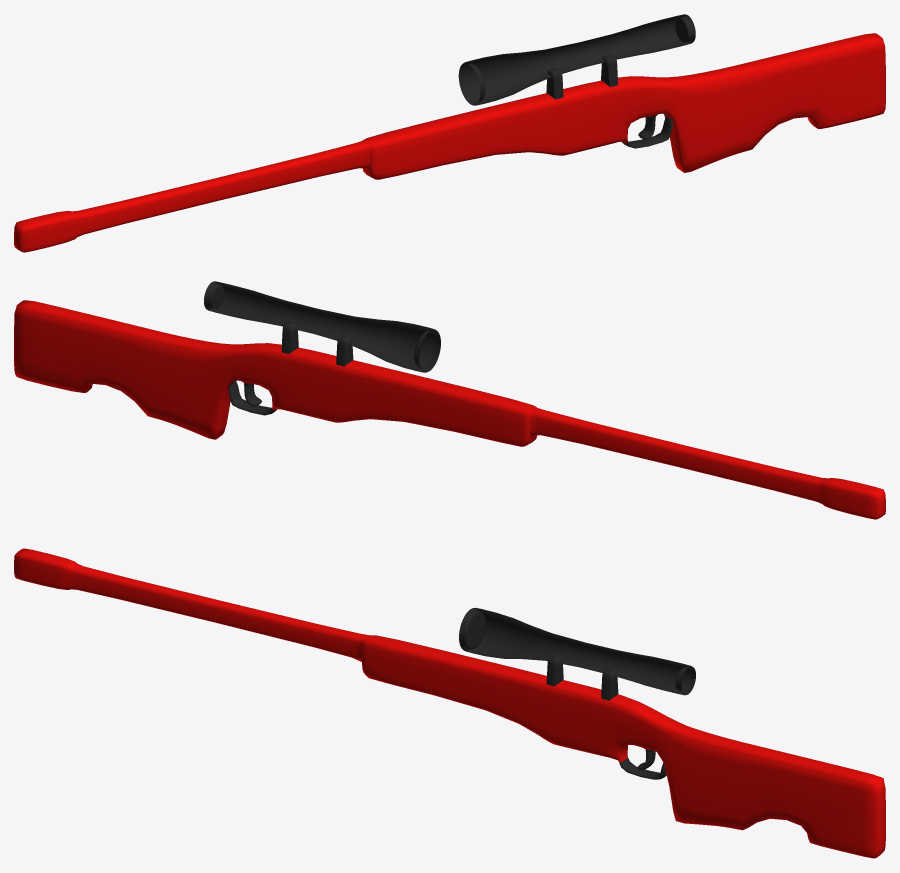
File: AWP.fbx
The picture shows the model from 3 angles, top to bottom: view 1: azimuth 30°, elevation 25°; view 2: azimuth 150°, elevation 25°; view 3: azimuth 330°, elevation 25°; orthographic projection.
Parts seen in each view (by area): view 1: Awp, Scope; view 2: Awp, Scope; view 3: Awp, Scope.
Part boxes in pixels (x1,y1,x2,y2): Awp: (14,33,885,252); Scope: (458,14,695,105); Awp: (14,300,885,519); Scope: (204,281,440,372); Awp: (14,548,885,858); Scope: (459,607,695,700).
Bounding box in the file's own units: 472 × 82.7 × 21.37.
